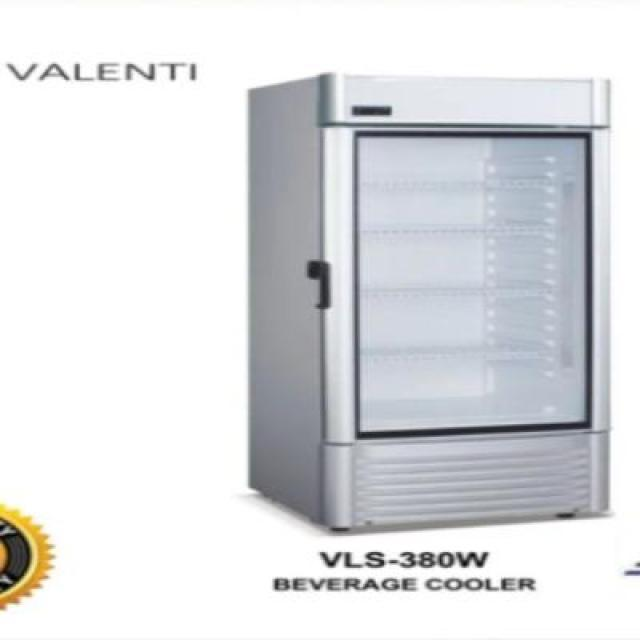refrigerator: (314, 71, 618, 535)
